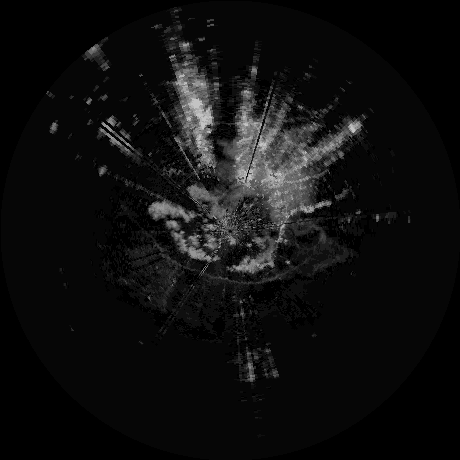frontgust: (135, 224, 289, 285)
